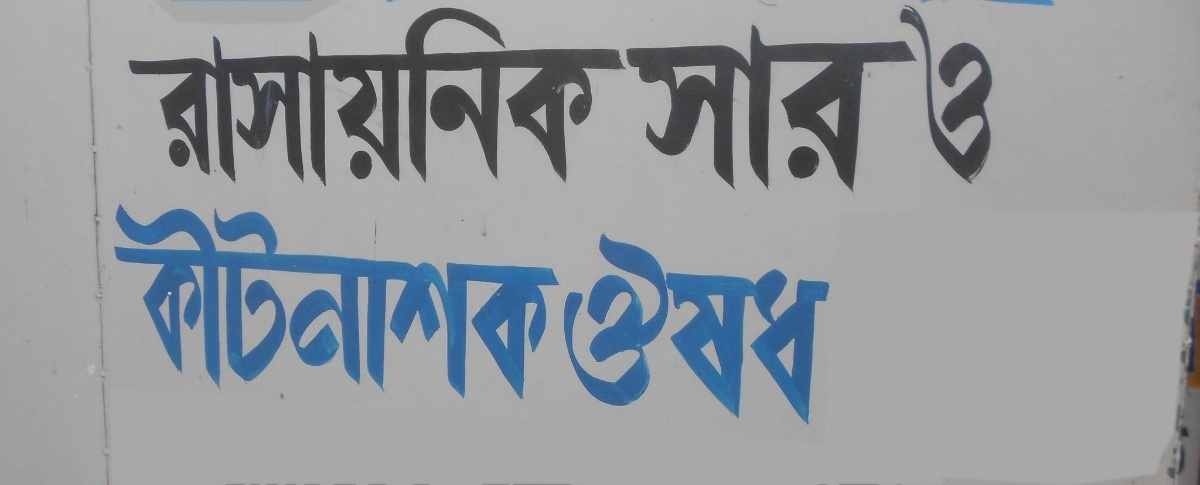text: (817, 232, 833, 432), (545, 204, 561, 401), (577, 232, 592, 432), (593, 232, 608, 432), (609, 232, 624, 432), (625, 232, 640, 432), (641, 232, 656, 432), (657, 232, 672, 432), (673, 232, 688, 432), (689, 232, 704, 432), (705, 232, 720, 432), (721, 232, 736, 432), (737, 232, 752, 432), (753, 232, 768, 432), (769, 232, 784, 432), (785, 232, 800, 432), (801, 232, 816, 432), (129, 204, 144, 401), (145, 204, 160, 401), (161, 204, 176, 401), (177, 204, 192, 401), (193, 204, 208, 401), (209, 204, 224, 401), (225, 204, 240, 401), (241, 204, 256, 401), (257, 204, 272, 401), (273, 204, 288, 401), (289, 204, 304, 401), (305, 204, 320, 401), (321, 204, 336, 401), (337, 204, 352, 401), (353, 204, 368, 401), (369, 204, 384, 401), (385, 204, 400, 401), (401, 204, 416, 401), (417, 204, 432, 401), (433, 204, 448, 401), (449, 204, 464, 401), (465, 204, 480, 401), (481, 204, 496, 401), (497, 204, 512, 401), (513, 204, 528, 401), (529, 204, 544, 401), (562, 232, 576, 432), (114, 204, 128, 401), (897, 3, 912, 184), (913, 3, 928, 184), (929, 3, 944, 184), (945, 3, 960, 184), (961, 3, 976, 184), (977, 3, 992, 184), (129, 8, 144, 187), (145, 8, 160, 187), (161, 8, 176, 187), (177, 8, 192, 187), (193, 8, 208, 187), (209, 8, 224, 187), (225, 8, 240, 187), (241, 8, 256, 187), (257, 8, 272, 187), (273, 8, 288, 187), (289, 8, 304, 187), (305, 8, 320, 187), (321, 8, 336, 187), (337, 8, 352, 187), (353, 8, 368, 187), (369, 8, 384, 187), (385, 8, 400, 187), (401, 8, 416, 187), (417, 8, 432, 187), (433, 8, 448, 187), (449, 8, 464, 187), (465, 8, 480, 187), (481, 8, 496, 187), (497, 8, 512, 187), (513, 8, 528, 187), (529, 8, 544, 187), (545, 8, 560, 187), (561, 8, 576, 187), (577, 8, 592, 187), (593, 8, 608, 187), (609, 8, 624, 187), (641, 25, 656, 194), (657, 25, 672, 194), (673, 25, 688, 194), (689, 25, 704, 194), (705, 25, 720, 194), (721, 25, 736, 194), (737, 25, 752, 194), (753, 25, 768, 194), (769, 25, 784, 194), (785, 25, 800, 194), (801, 25, 816, 194), (817, 25, 832, 194), (833, 25, 848, 194), (849, 25, 864, 194), (865, 25, 880, 194), (881, 25, 896, 194), (897, 25, 912, 194), (626, 25, 640, 194), (913, 25, 919, 194), (625, 8, 628, 187), (993, 3, 995, 184), (127, 8, 128, 187)
